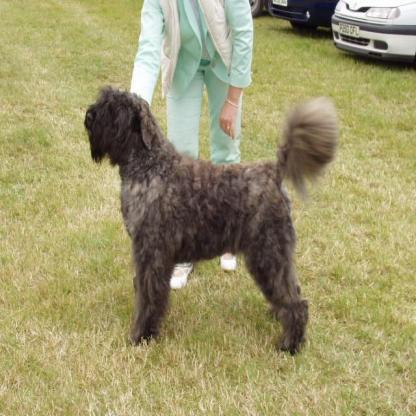Bouvier_des_Flandres: (83, 83, 338, 356)
